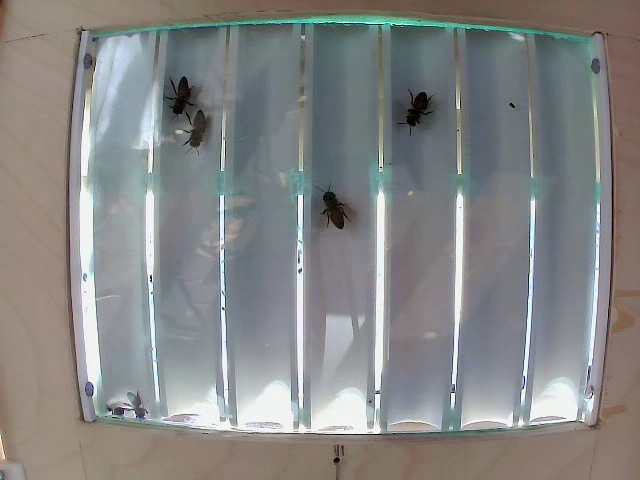bee: (387, 85, 435, 138), (311, 184, 361, 233), (154, 73, 202, 104), (175, 117, 214, 147)
